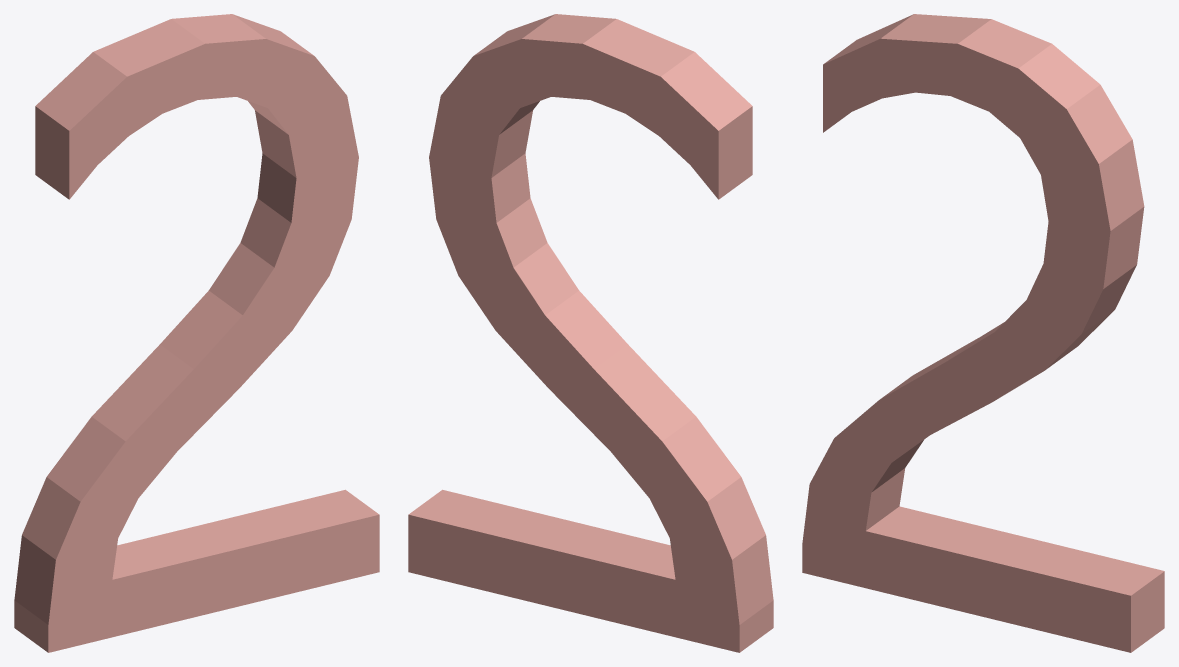
File: tsifa1.fbx
The picture shows the model from 3 angles, left to right: view 1: azimuth 30°, elevation 25°; view 2: azimuth 150°, elevation 25°; view 3: azimuth 330°, elevation 25°; orthographic projection.
Parts seen in each view (by area): view 1: Extrude_4; view 2: Extrude_4; view 3: Extrude_4.
Boxes of the visible parts, x1,y1,x2,y2 form: Extrude_4: (14,14,379,652); Extrude_4: (408,14,773,652); Extrude_4: (802,14,1164,652).
Bounding box in the file's own units: 5.62 × 9.25 × 1.
